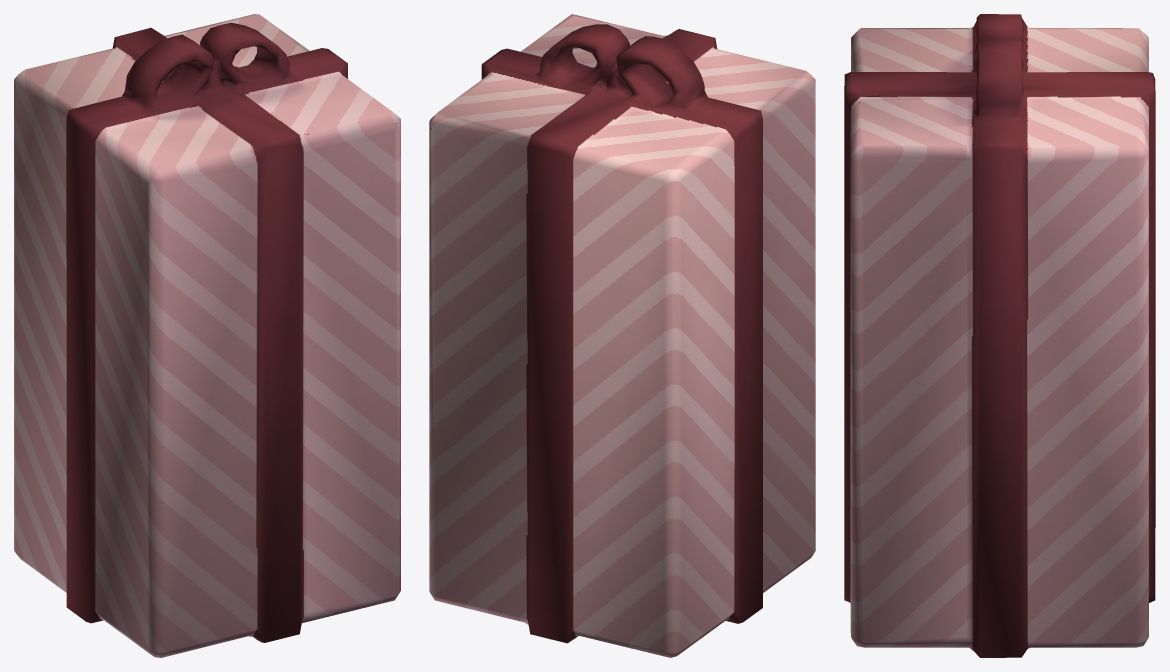
The model's file is gift_tall.glb.
3 renders of one model, left to right at view 1: azimuth 30°, elevation 25°; view 2: azimuth 150°, elevation 25°; view 3: azimuth 270°, elevation 25°, orthographic. The views are drawn at different scales.
Parts seen in each view (by area): view 1: Box; view 2: Box; view 3: Box.
Boxes of the visible parts, x1,y1,x2,y2 form: Box: (14, 14, 400, 657); Box: (429, 14, 815, 657); Box: (844, 14, 1155, 657).
Size of the model in its own units: 0.292 by 0.5837 by 0.292.
Materials: 1 (1 with a texture image).
